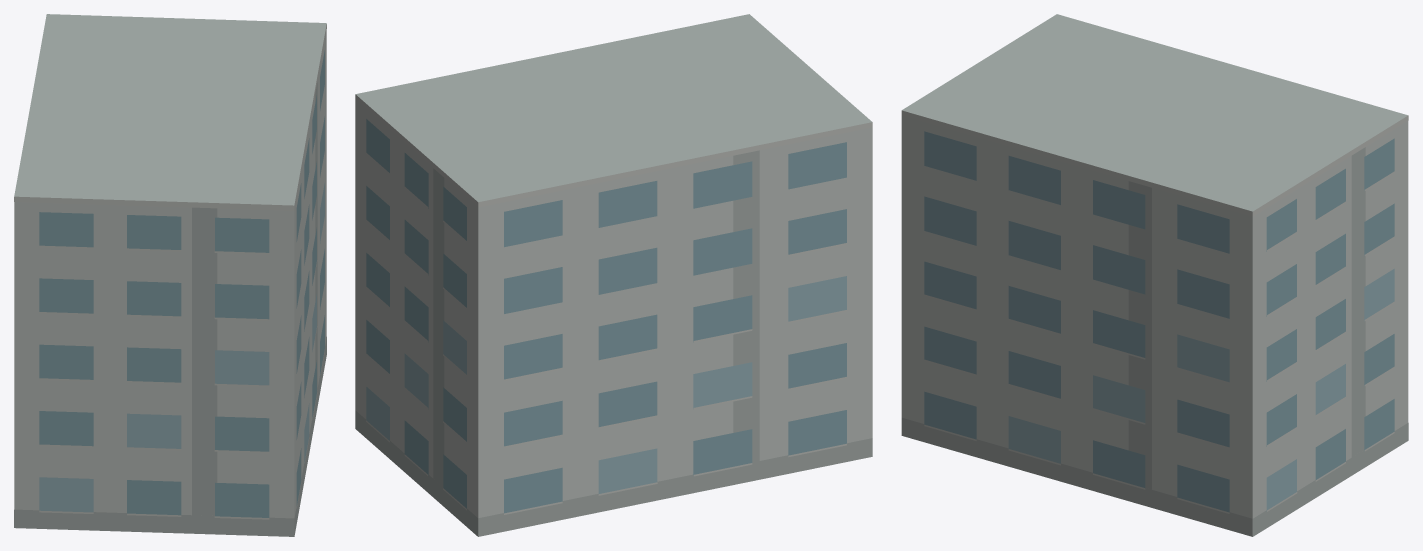
Rendered from residential-f20ccf04-0b59-45f2-8037-0cc14036cf93.glb.
The picture shows the model from 3 angles, left to right: view 1: azimuth 30°, elevation 25°; view 2: azimuth 150°, elevation 25°; view 3: azimuth 270°, elevation 25°; orthographic projection. The views are drawn at different scales.
Visible parts, largest first — view 1: residential-f20ccf04-0b59-45f2-8037-0cc14036cf93.tmp; view 2: residential-f20ccf04-0b59-45f2-8037-0cc14036cf93.tmp; view 3: residential-f20ccf04-0b59-45f2-8037-0cc14036cf93.tmp.
Part boxes in pixels (bbox=[...]): residential-f20ccf04-0b59-45f2-8037-0cc14036cf93.tmp: bbox=[14, 14, 326, 536]; residential-f20ccf04-0b59-45f2-8037-0cc14036cf93.tmp: bbox=[355, 14, 872, 536]; residential-f20ccf04-0b59-45f2-8037-0cc14036cf93.tmp: bbox=[901, 14, 1408, 536].
Bounding box in the file's own units: 19.87 × 15.25 × 21.54.
